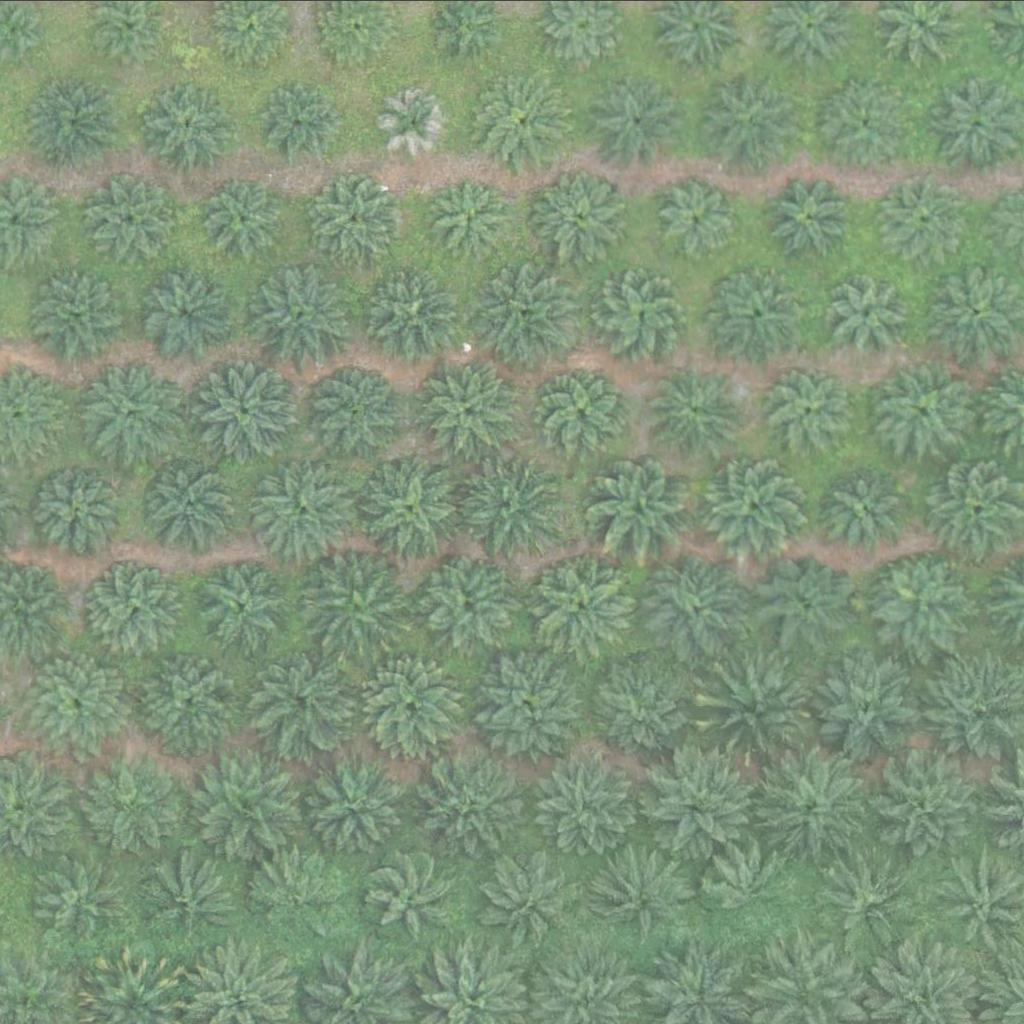Kelapa_Sawit: (22, 644, 136, 757), (134, 640, 248, 753), (298, 543, 412, 656), (355, 451, 469, 564), (454, 443, 568, 556), (529, 745, 642, 858), (245, 256, 358, 369), (586, 449, 699, 562), (696, 447, 809, 560), (809, 648, 922, 761), (643, 743, 756, 856), (756, 752, 869, 865), (873, 746, 986, 859), (248, 454, 362, 566), (470, 257, 584, 369), (192, 743, 305, 855), (300, 745, 413, 857), (249, 641, 362, 753), (473, 642, 586, 754), (189, 350, 302, 462), (589, 651, 702, 763), (704, 652, 817, 764), (424, 749, 525, 849), (360, 651, 461, 751), (417, 549, 518, 649), (33, 453, 134, 553), (139, 451, 240, 551), (77, 358, 178, 458), (29, 264, 130, 364), (137, 261, 238, 361), (361, 263, 462, 363), (470, 65, 571, 165), (585, 71, 686, 171), (645, 360, 746, 460), (873, 359, 974, 459), (532, 556, 633, 656), (644, 559, 745, 659), (760, 550, 861, 650), (870, 549, 971, 649), (590, 844, 691, 944), (84, 745, 184, 845), (83, 554, 183, 654), (194, 551, 294, 651), (305, 359, 405, 459), (422, 357, 522, 457), (701, 68, 801, 168), (529, 163, 629, 263), (591, 264, 691, 364), (707, 260, 807, 360), (532, 360, 632, 460), (817, 852, 917, 952), (91, 171, 180, 259), (149, 852, 237, 940), (34, 77, 122, 165), (147, 80, 235, 168), (658, 172, 746, 260), (822, 463, 910, 551), (707, 847, 795, 935), (39, 848, 127, 935), (253, 849, 341, 936), (367, 854, 455, 941), (483, 853, 571, 940), (205, 175, 293, 262), (315, 172, 403, 259), (829, 78, 917, 165), (821, 266, 909, 353), (765, 364, 853, 451), (432, 178, 508, 253), (775, 176, 851, 251), (886, 178, 962, 253), (265, 84, 340, 159), (379, 82, 454, 157)
